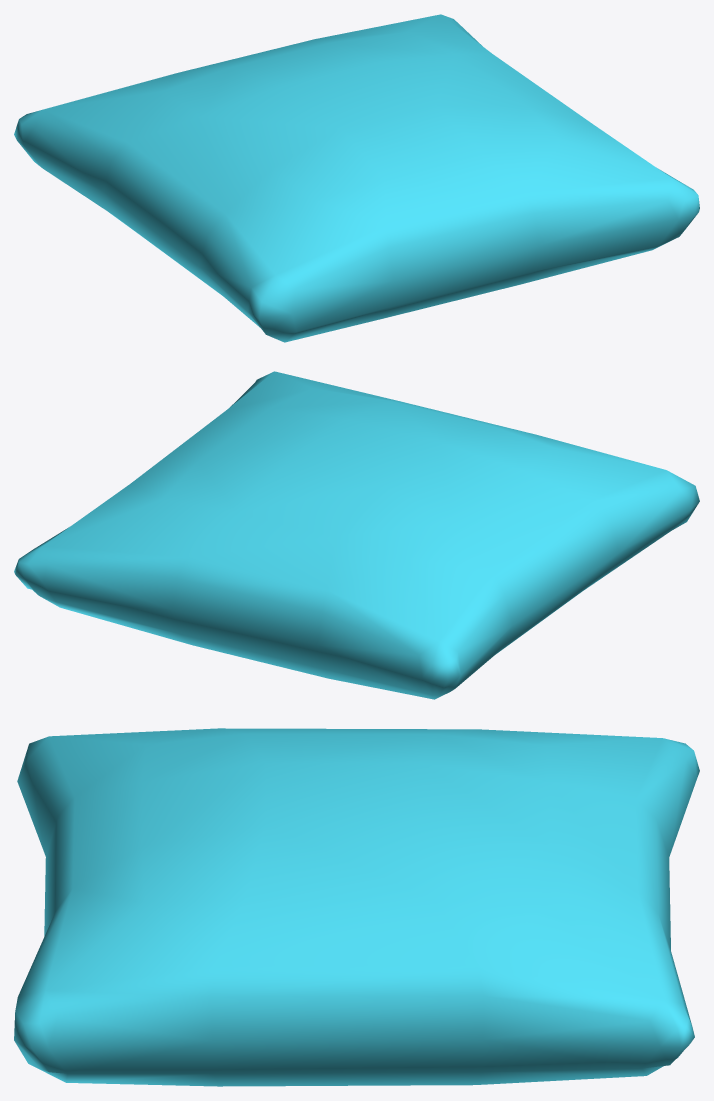
Rendered from cushion01.fbx.
3 views of the same model, one above another, from view 1: azimuth 30°, elevation 25°; view 2: azimuth 150°, elevation 25°; view 3: azimuth 270°, elevation 25° (orthographic). The views are drawn at different scales.
Visible parts, largest first — view 1: cushion01; view 2: cushion01; view 3: cushion01.
Boxes of the visible parts, x1=… form: cushion01: x1=14, y1=14, x2=699, y2=342; cushion01: x1=14, y1=371, x2=699, y2=699; cushion01: x1=14, y1=728, x2=699, y2=1086.
Size of the model in its own units: 0.4426 by 0.1623 by 0.4444.
